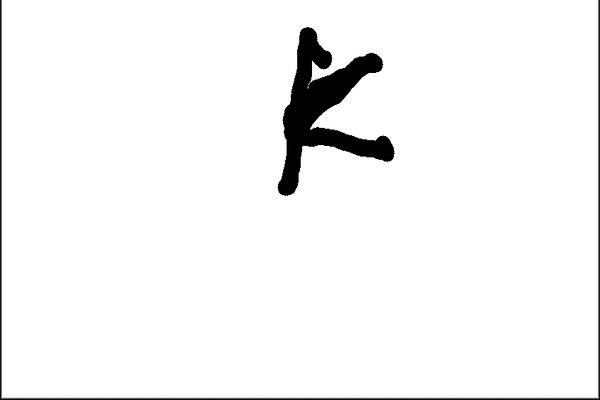K: (273, 22, 399, 202)
